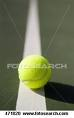tennis ball: (18, 55, 54, 89)
